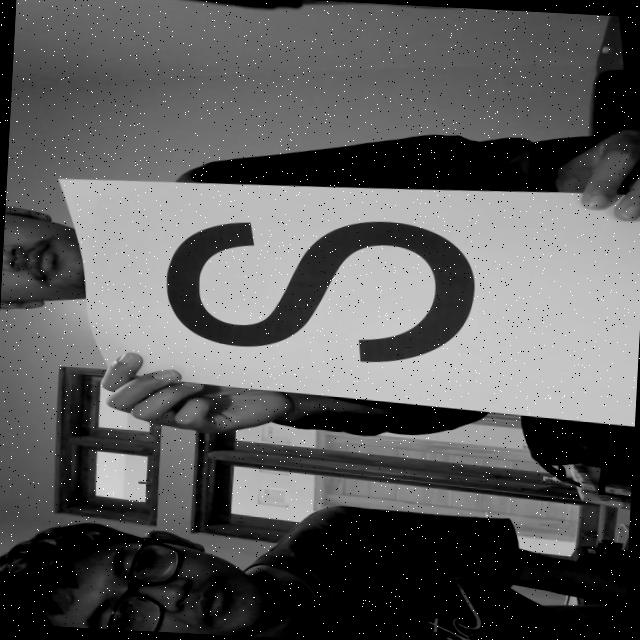s: (149, 207, 503, 385)
